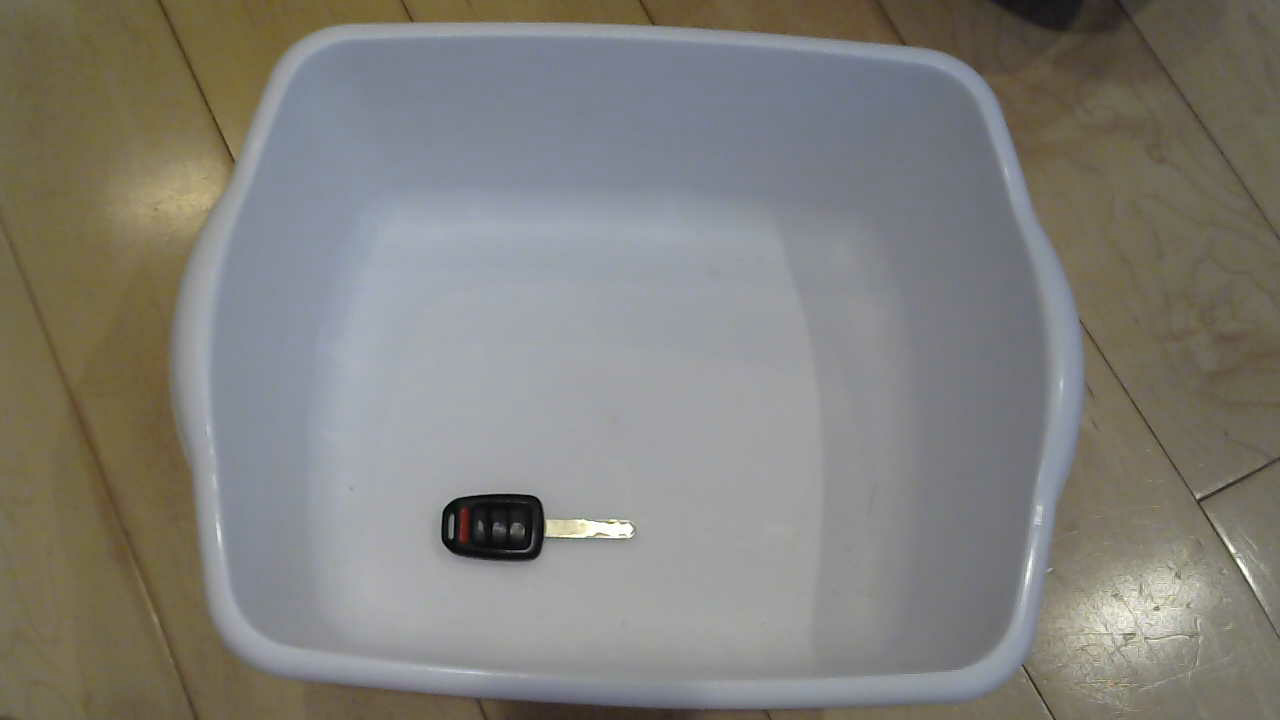key: (420, 488, 646, 584)
